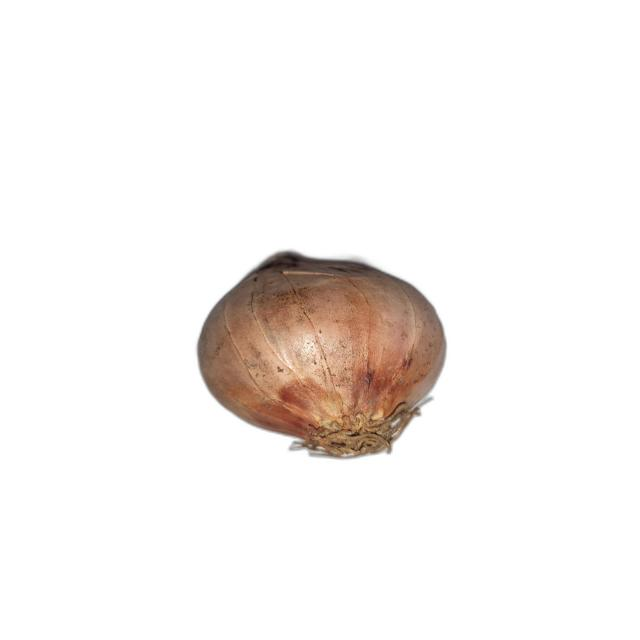onion: (195, 252, 447, 460)
